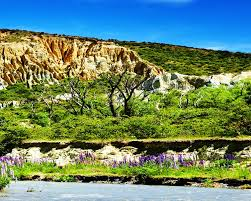mountain: (5, 35, 251, 194)
sky: (3, 2, 249, 42)
tree: (109, 68, 148, 119)
